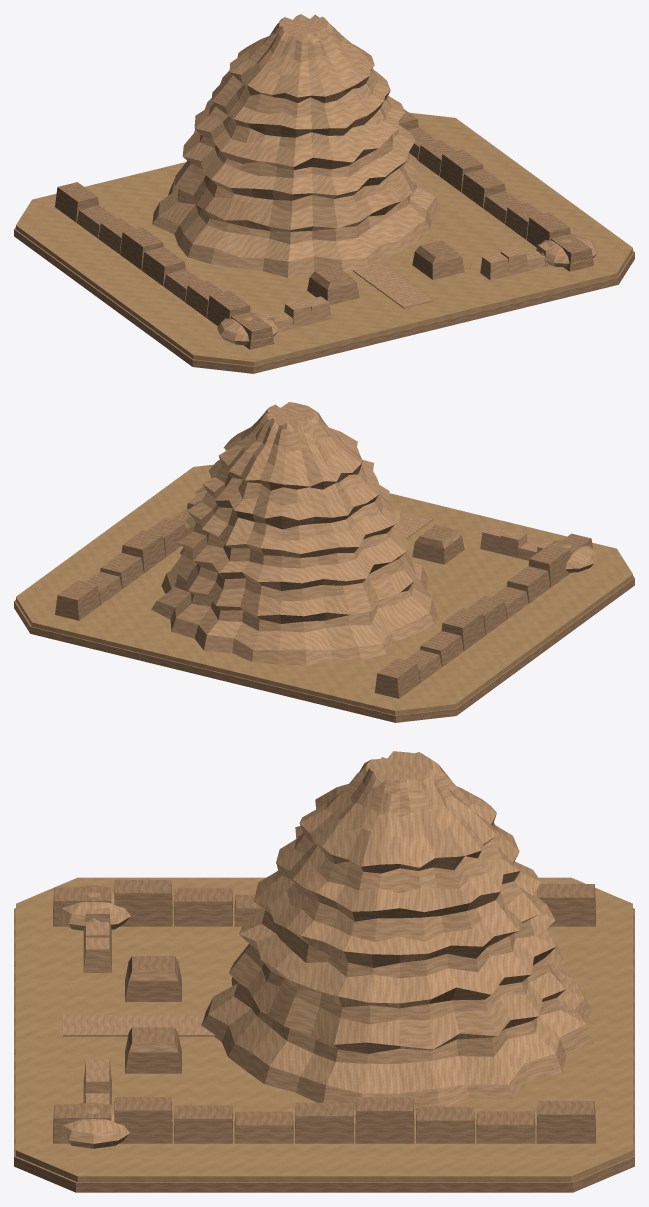
Rendered from western-xia.glb.
3 views of the same model, one above another, from view 1: azimuth 30°, elevation 25°; view 2: azimuth 150°, elevation 25°; view 3: azimuth 270°, elevation 25° (orthographic). The views are drawn at different scales.
Visible parts, largest first — view 1: 西夏陵; view 2: 西夏陵; view 3: 西夏陵.
Boxes of the visible parts, x1,y1,x2,y2 form: 西夏陵: (14,14,634,373); 西夏陵: (14,402,634,722); 西夏陵: (14,751,634,1192).
Bounding box in the file's own units: 10.35 × 4.55 × 9.04.
3 materials, 3 textured.
